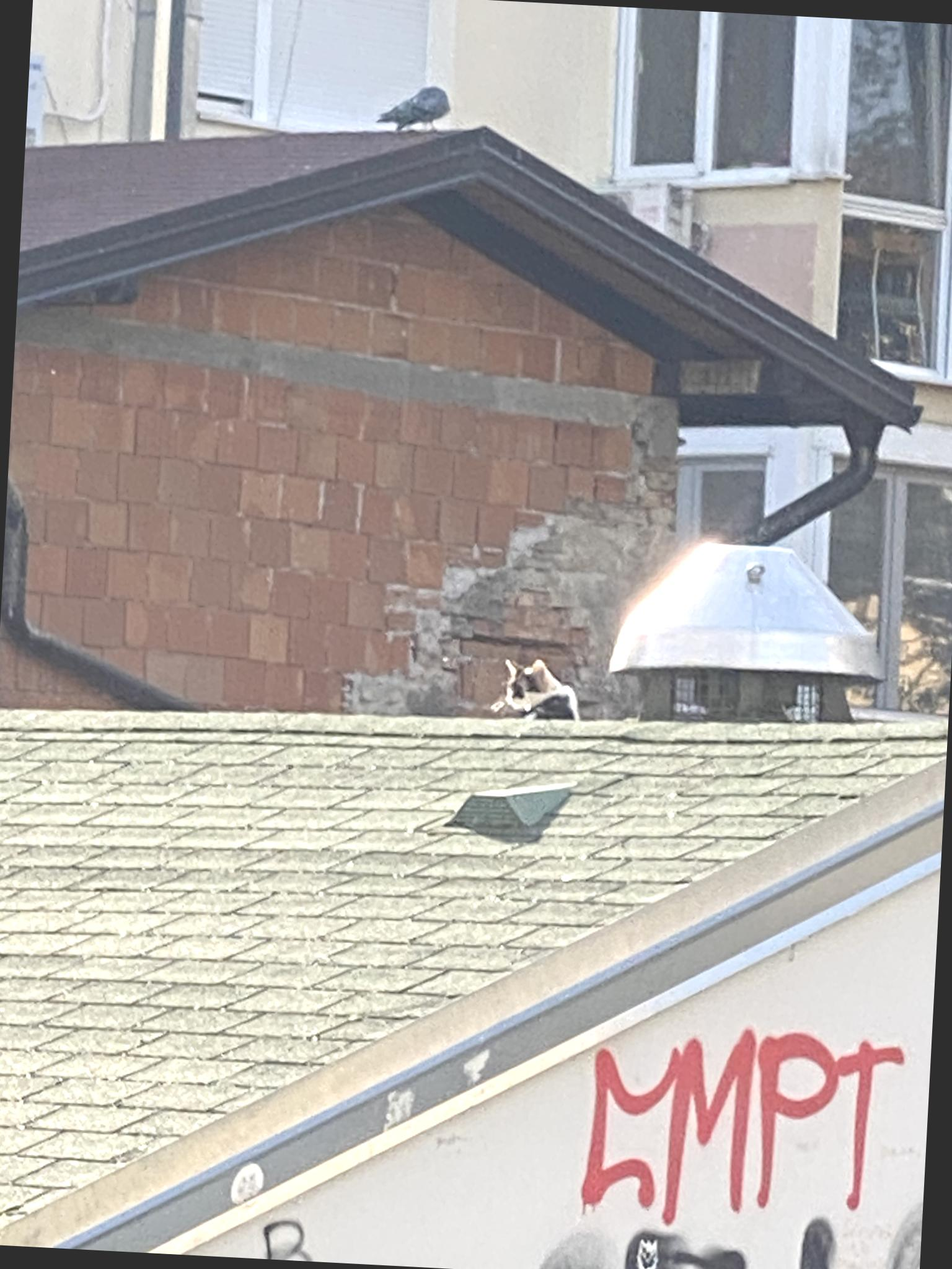macka: (500, 657, 583, 721)
